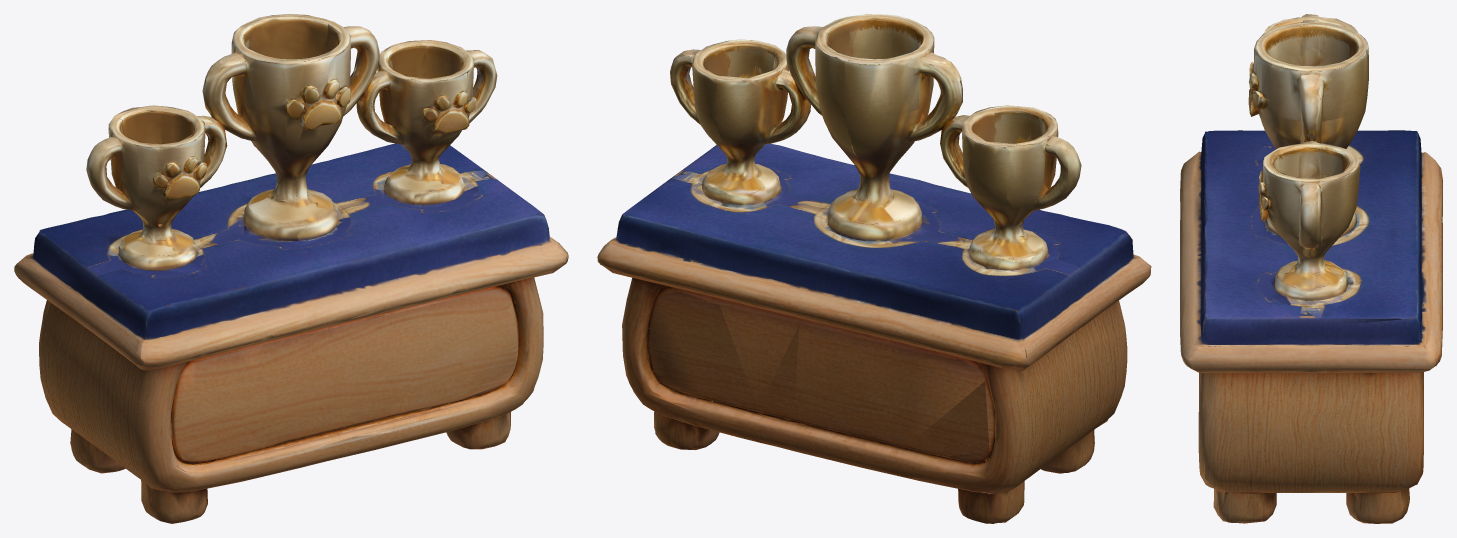
File: Stage_Trophy.fbx
3 renders of one model, left to right at view 1: azimuth 30°, elevation 25°; view 2: azimuth 150°, elevation 25°; view 3: azimuth 270°, elevation 25°, orthographic. The views are drawn at different scales.
Visible parts, largest first — view 1: Prop_trophy; view 2: Prop_trophy; view 3: Prop_trophy.
Part boxes in pixels (x1=…): Prop_trophy: x1=14, y1=14, x2=568, y2=523; Prop_trophy: x1=597, y1=14, x2=1151, y2=523; Prop_trophy: x1=1180, y1=14, x2=1442, y2=523.
Bounding box in the file's own units: 1.4 × 1.28 × 0.7682.
1 material, 1 textured.
